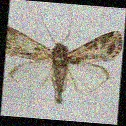Spodoptera litura: (5, 8, 121, 108)
